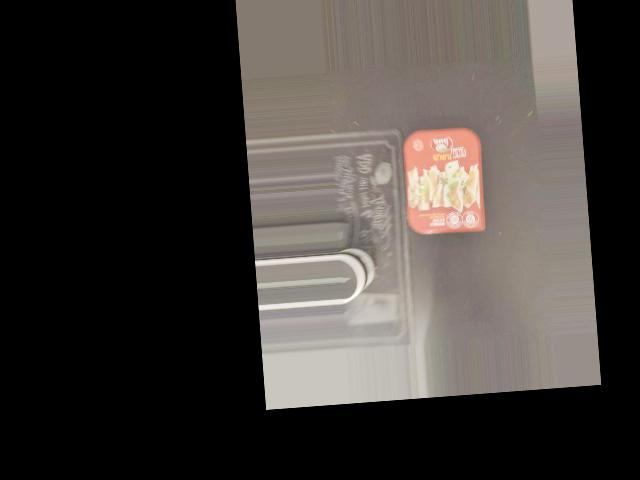cheese: (398, 125, 491, 242)
